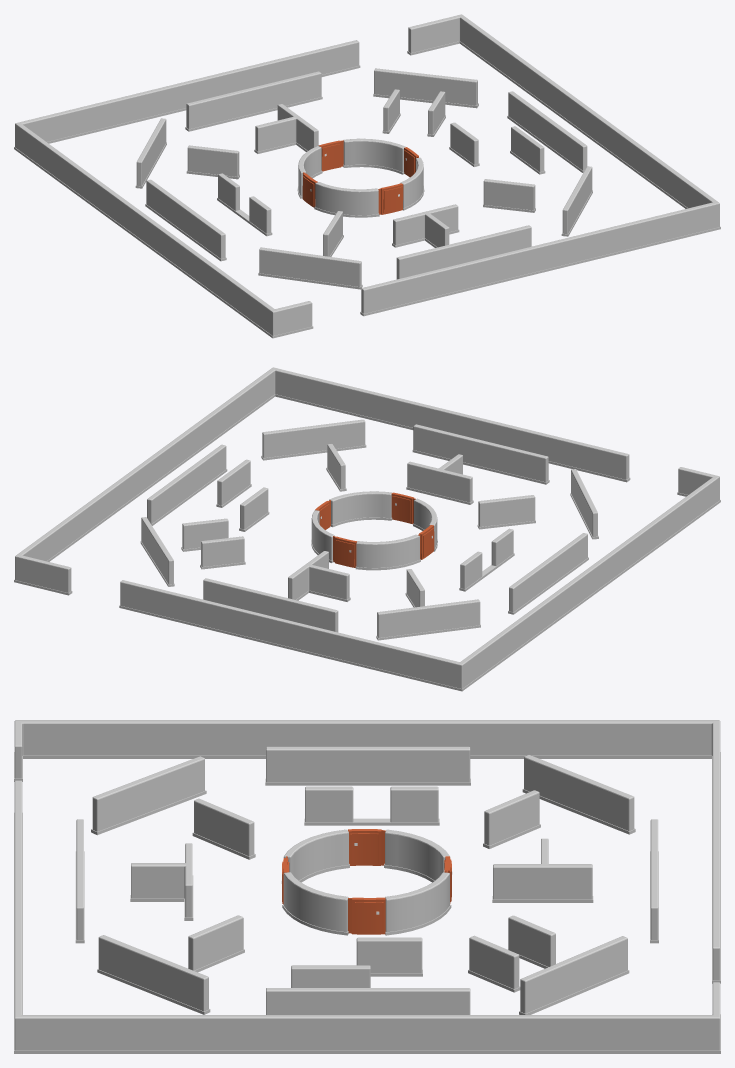
Rendered from level 24.FBX.
The picture shows the model from 3 angles, top to bottom: view 1: azimuth 30°, elevation 25°; view 2: azimuth 150°, elevation 25°; view 3: azimuth 270°, elevation 25°; orthographic projection. The views are drawn at different scales.
Visible parts, largest first — view 1: level 24, level 24_16, level 24_06; view 2: level 24, level 24_06, level 24_16; view 3: level 24, level 24_11, level 24_01.
Part boxes in pixels (x1,y1,x2,y2): level 24: (14, 14, 720, 338); level 24_16: (380, 183, 403, 214); level 24_06: (318, 140, 341, 171); level 24: (14, 367, 720, 691); level 24_06: (334, 536, 357, 567); level 24_16: (391, 492, 413, 524); level 24: (14, 720, 720, 1053); level 24_11: (352, 897, 385, 934); level 24_01: (348, 829, 381, 865).
Size of the model in its own units: 20.17 by 1.13 by 20.17.
